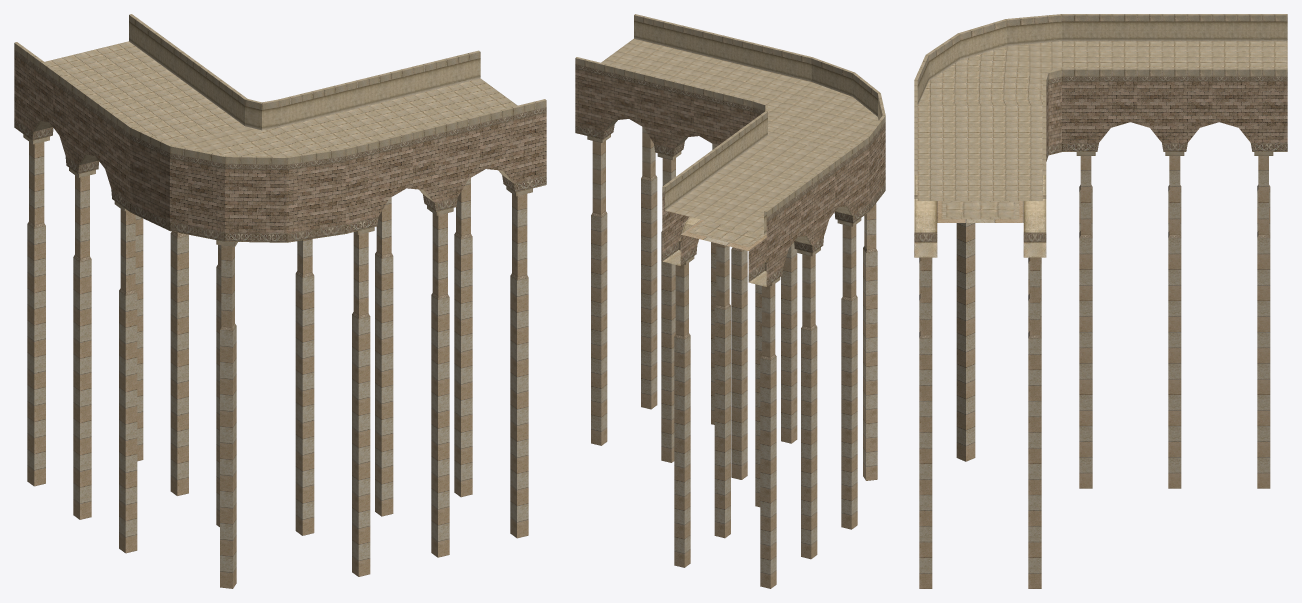
The model's file is thm_nboo_imprv_elevated_walkway_corner_s01_l1.fbx.
3 renders of one model, left to right at view 1: azimuth 30°, elevation 25°; view 2: azimuth 150°, elevation 25°; view 3: azimuth 270°, elevation 25°, orthographic. The views are drawn at different scales.
Visible parts, largest first — view 1: mesh_node; view 2: mesh_node; view 3: mesh_node.
Boxes of the visible parts, x1,y1,x2,y2 form: mesh_node: [14, 14, 546, 588]; mesh_node: [575, 14, 885, 588]; mesh_node: [914, 14, 1287, 588].
Size of the model in its own units: 15.04 by 18.3 by 14.7.
